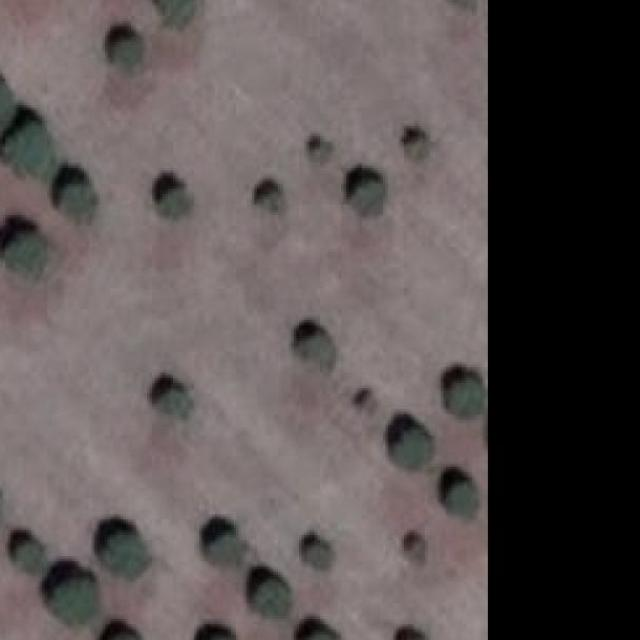Tree: (5, 124, 56, 176), (52, 580, 98, 622), (5, 233, 47, 273), (449, 378, 486, 418), (105, 535, 142, 575), (394, 430, 428, 465), (257, 580, 286, 617), (63, 184, 94, 218), (351, 180, 383, 210), (115, 40, 145, 71), (159, 187, 189, 218), (307, 142, 338, 172), (302, 333, 334, 362), (210, 535, 239, 565), (402, 535, 428, 566), (16, 540, 42, 570), (354, 388, 380, 417), (163, 0, 192, 24), (446, 486, 472, 512), (157, 394, 189, 414), (105, 627, 141, 640), (0, 82, 10, 127), (301, 629, 341, 640), (262, 192, 281, 213), (202, 629, 238, 640), (409, 136, 428, 156), (308, 546, 328, 564), (454, 0, 478, 6)
